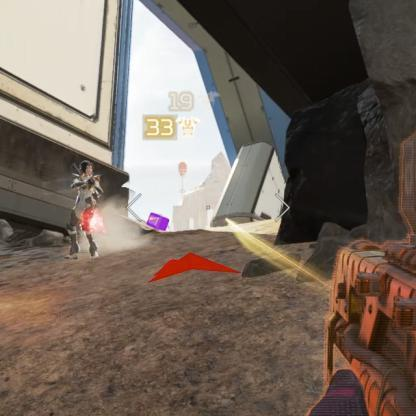avatar: (67, 159, 102, 260)
object: (79, 207, 104, 234)
